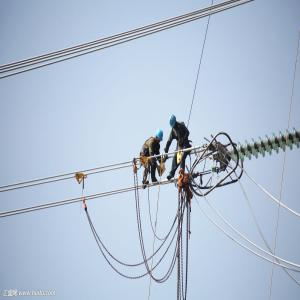blue: (156, 129, 164, 145), (170, 114, 178, 130)
